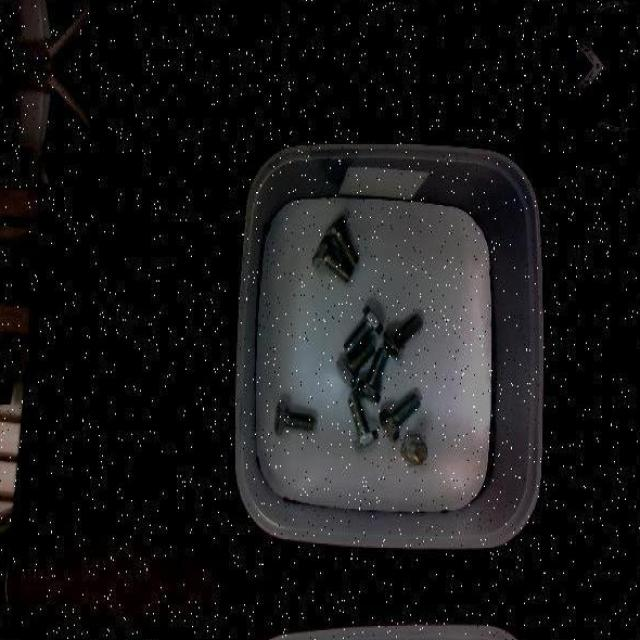screw: (343, 305, 383, 357), (335, 338, 374, 388), (378, 393, 419, 440), (355, 348, 388, 405), (383, 314, 423, 361), (312, 236, 352, 282), (325, 214, 359, 268), (347, 392, 379, 449), (274, 399, 314, 436), (400, 433, 428, 466)
